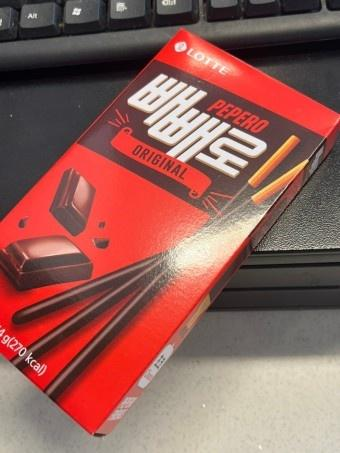snack: (0, 25, 340, 437)
